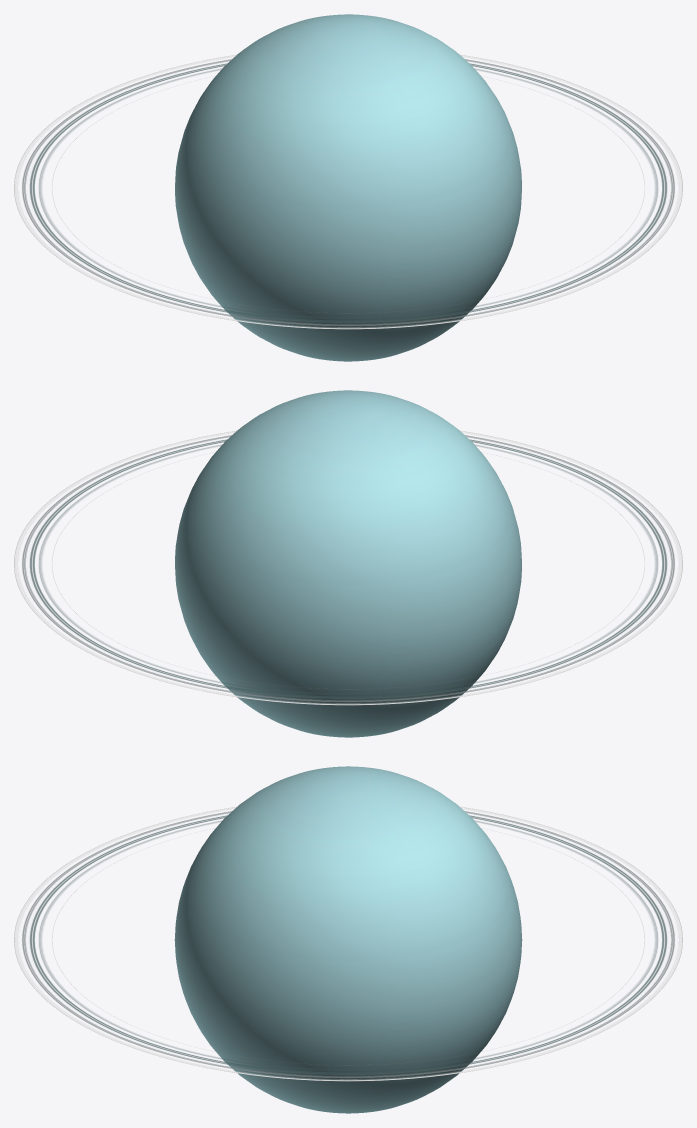
3 views of the same model, one above another, from view 1: azimuth 30°, elevation 25°; view 2: azimuth 150°, elevation 25°; view 3: azimuth 270°, elevation 25° (orthographic).
Visible parts, largest first — view 1: Uranus; view 2: Uranus; view 3: Uranus.
Part boxes in pixels (box(x1,y1,x2,y2)): Uranus: box(14, 14, 682, 361); Uranus: box(14, 390, 682, 737); Uranus: box(14, 766, 682, 1113).
Size of the model in its own units: 9.77 by 5.07 by 9.77.
Materials: 2 (2 with a texture image).
